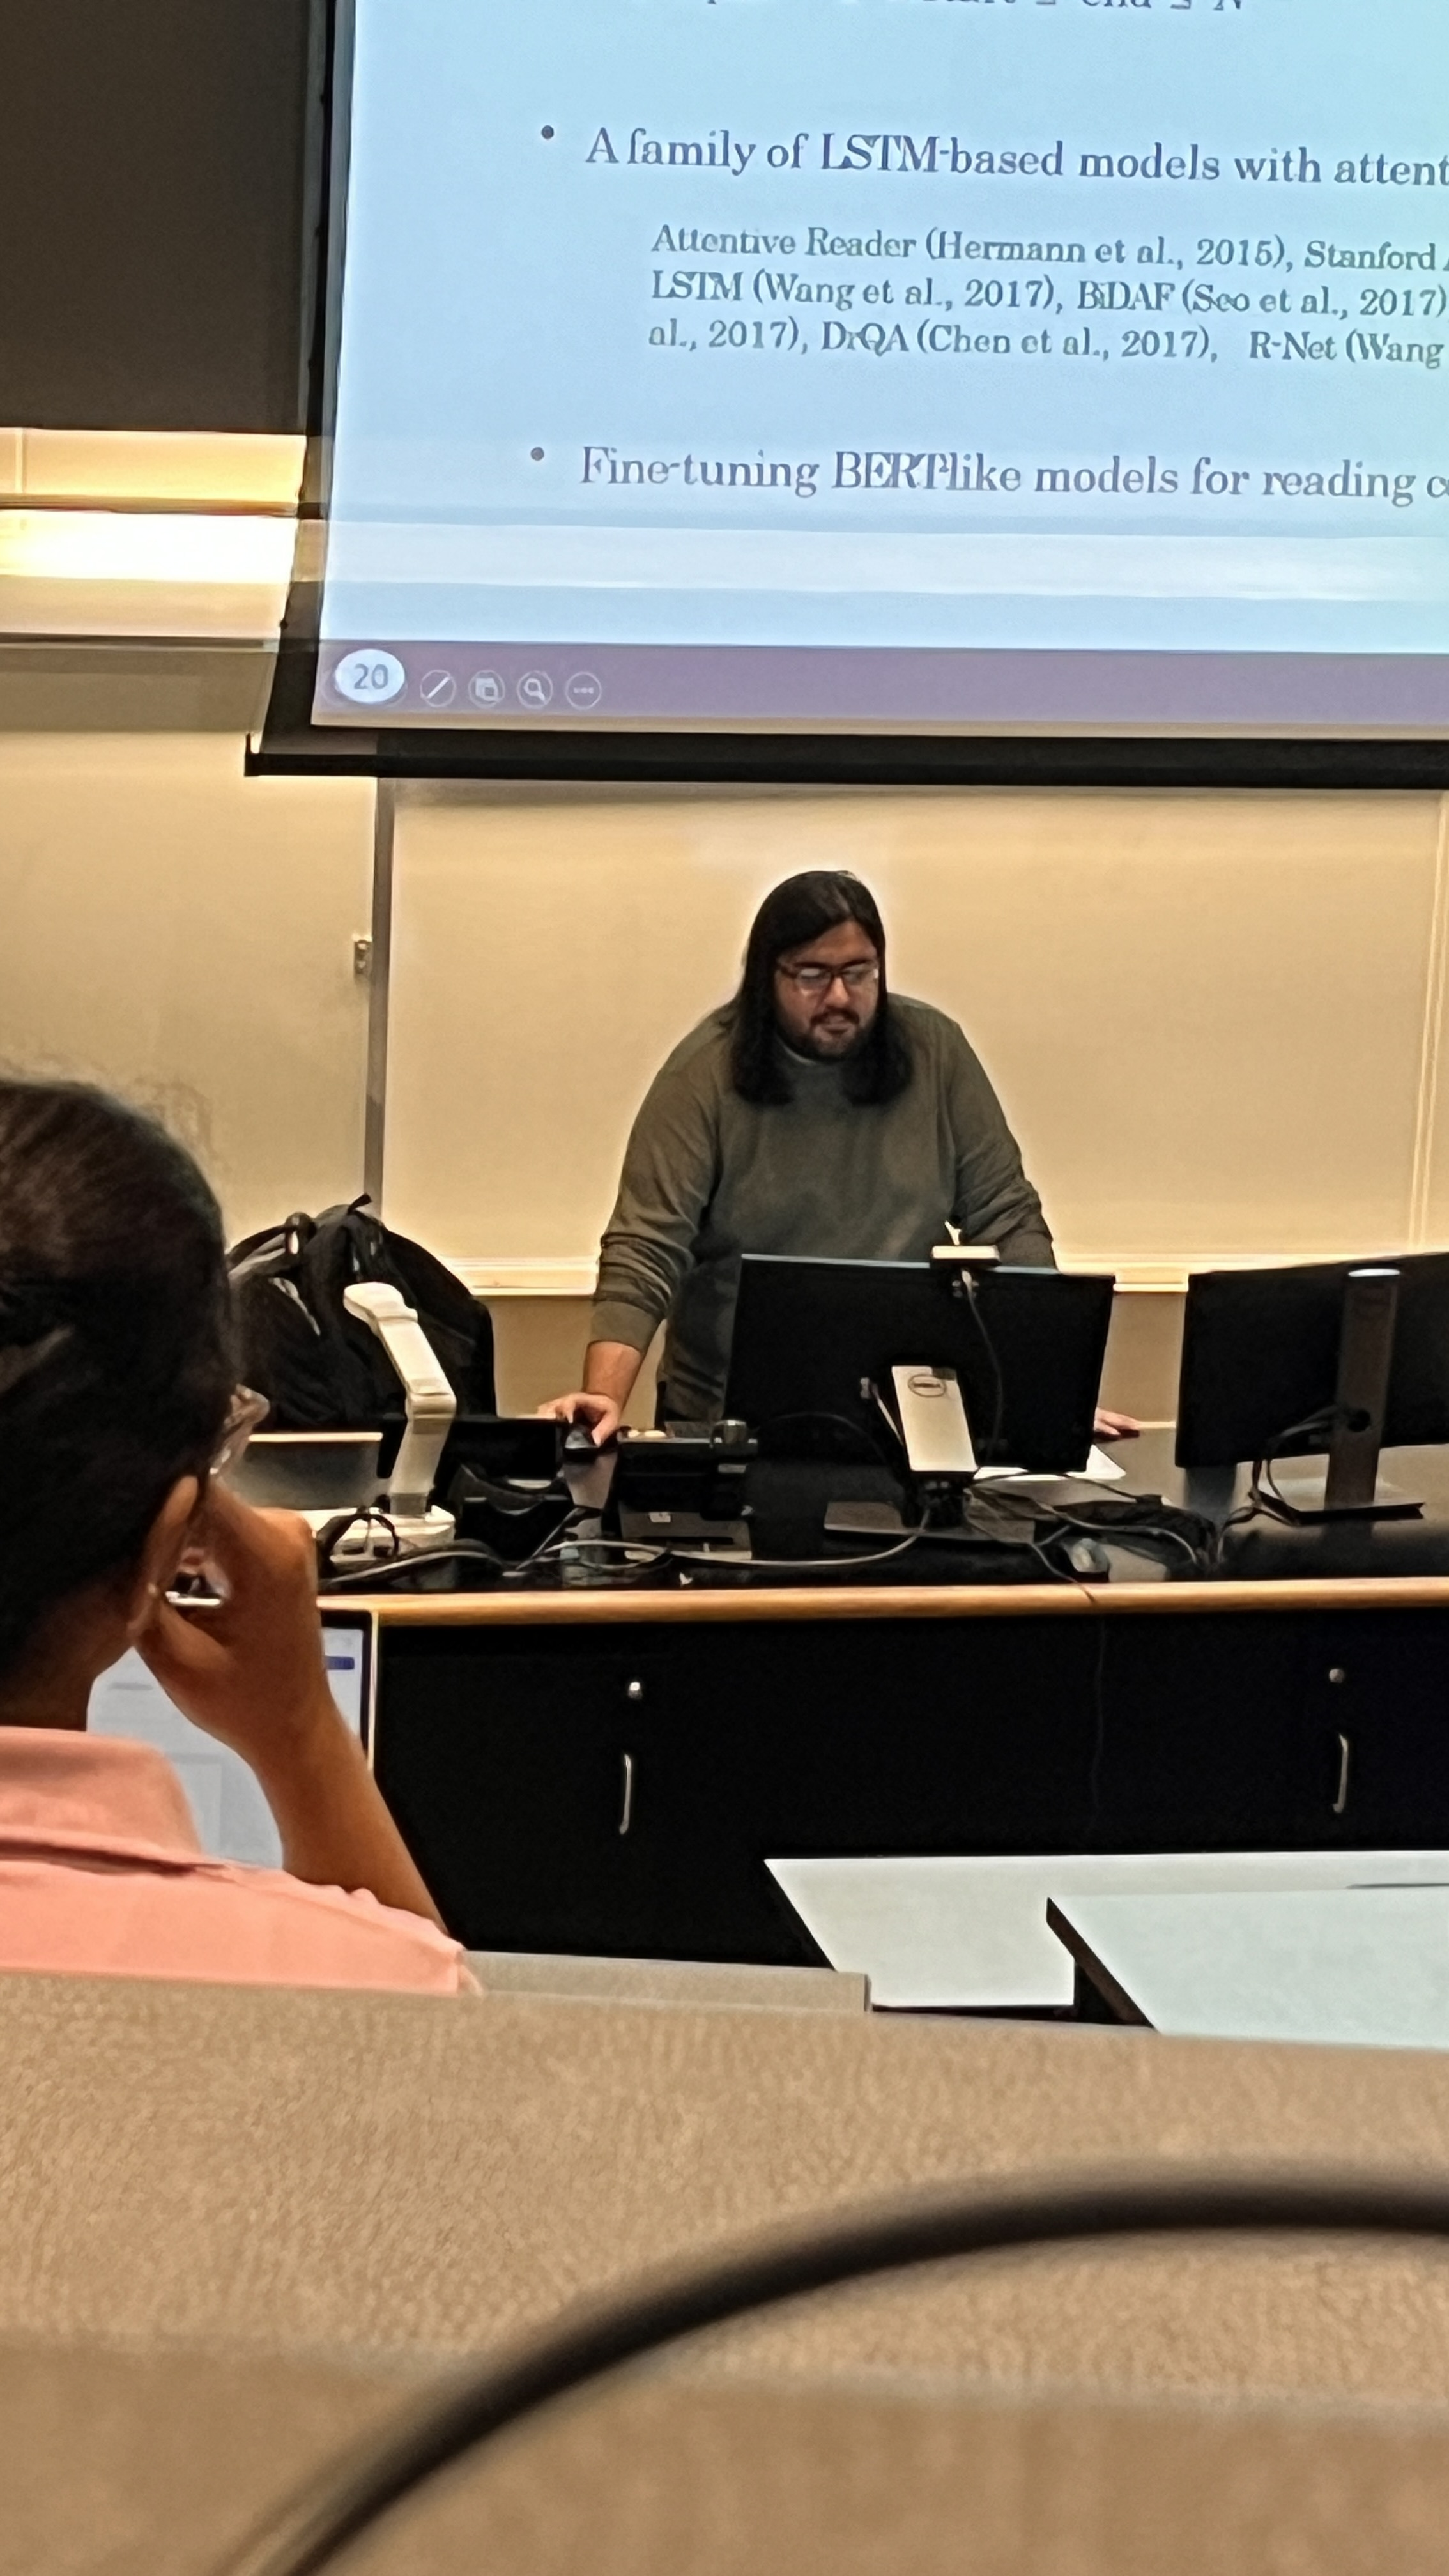Staff: (598, 810, 1116, 1352)
